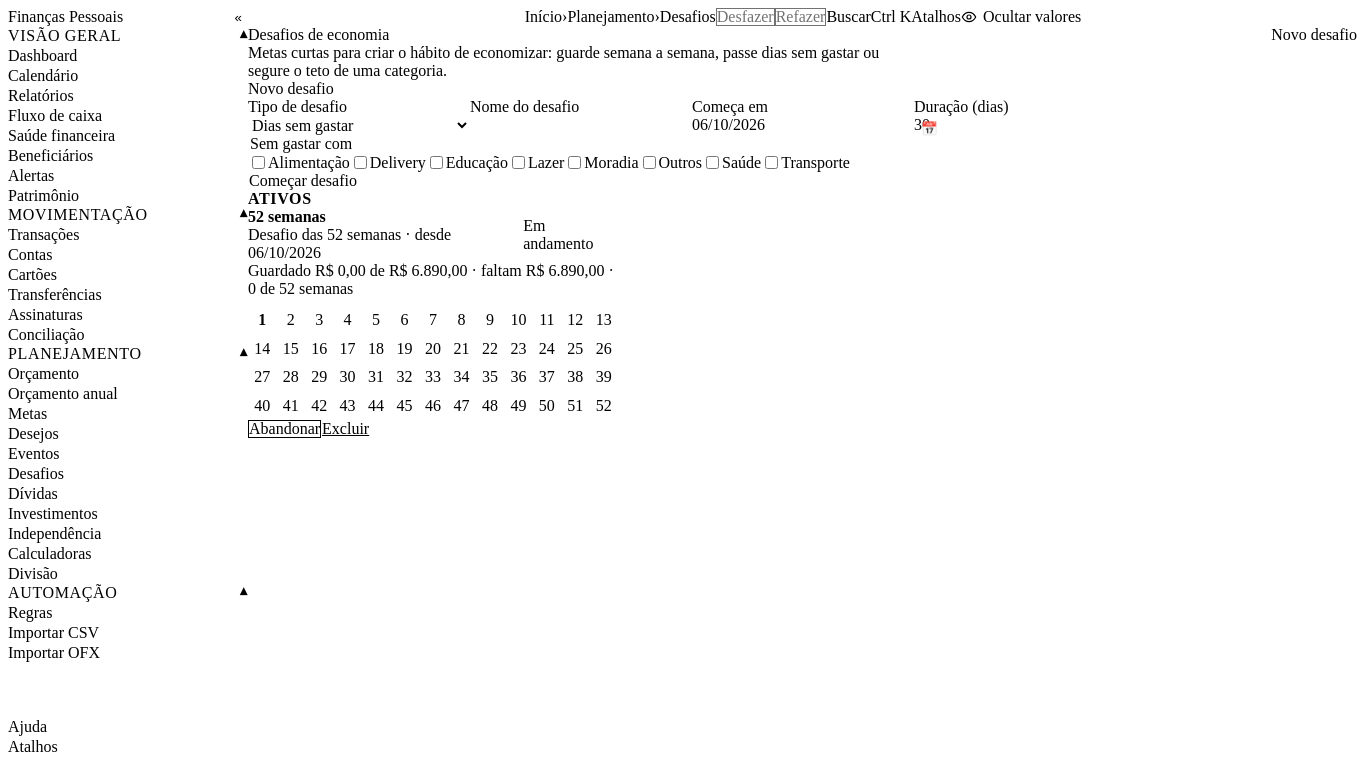
desafios: tela › critérios 3 e 8: marca semana pela tela e abandona com confirmação
Click the checkbox labelled "1": (262, 320) [258,311,266,328]
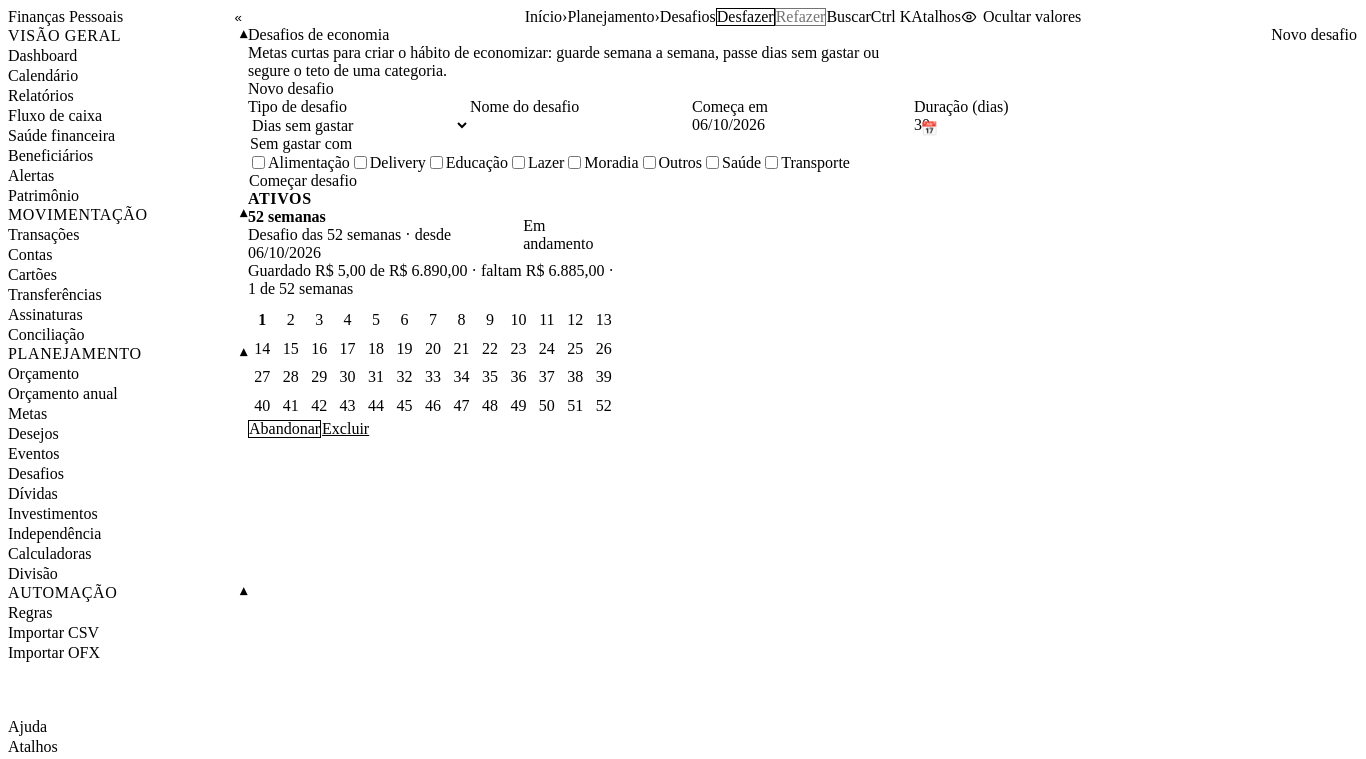
Click the button with aria-label "Abandonar 52 semanas": (285, 429) [248,420,321,438]
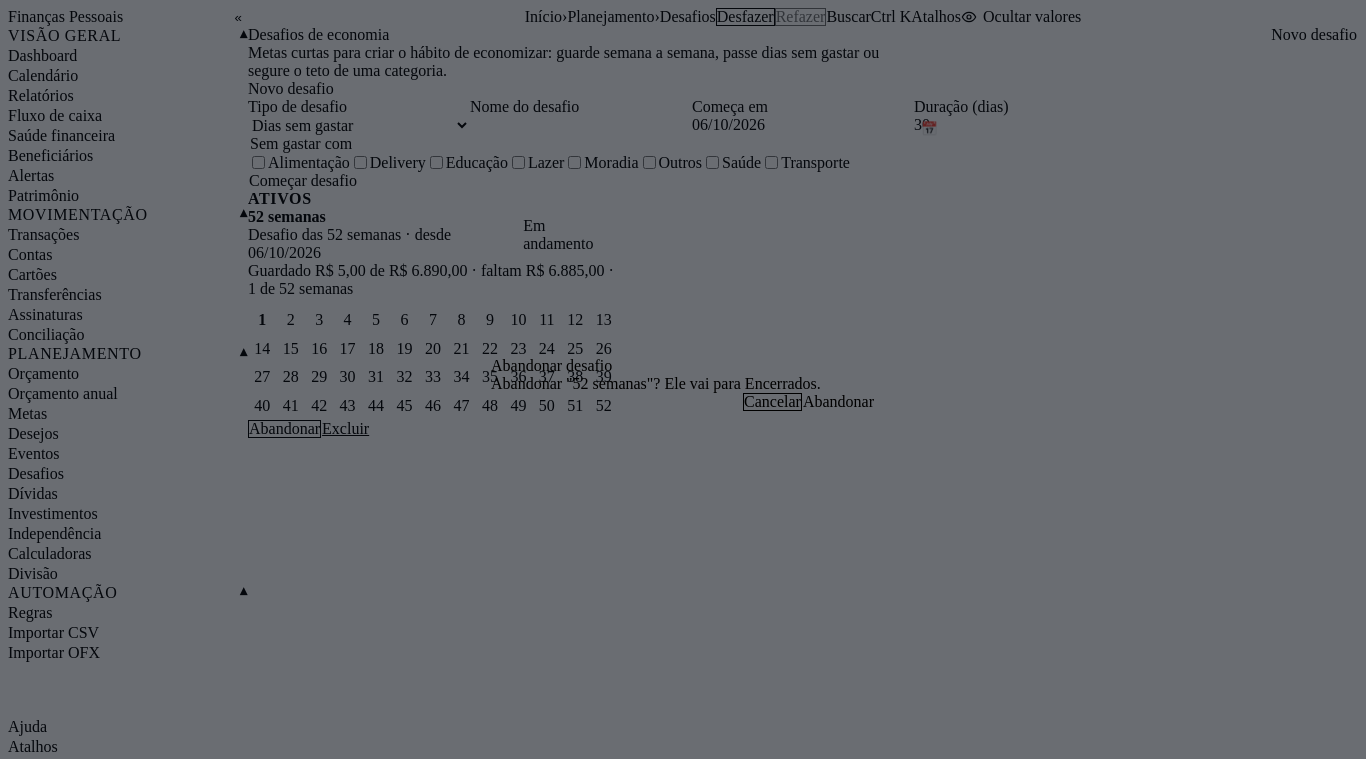
Click the button "Abandonar": (838, 402) [802,393,875,411]
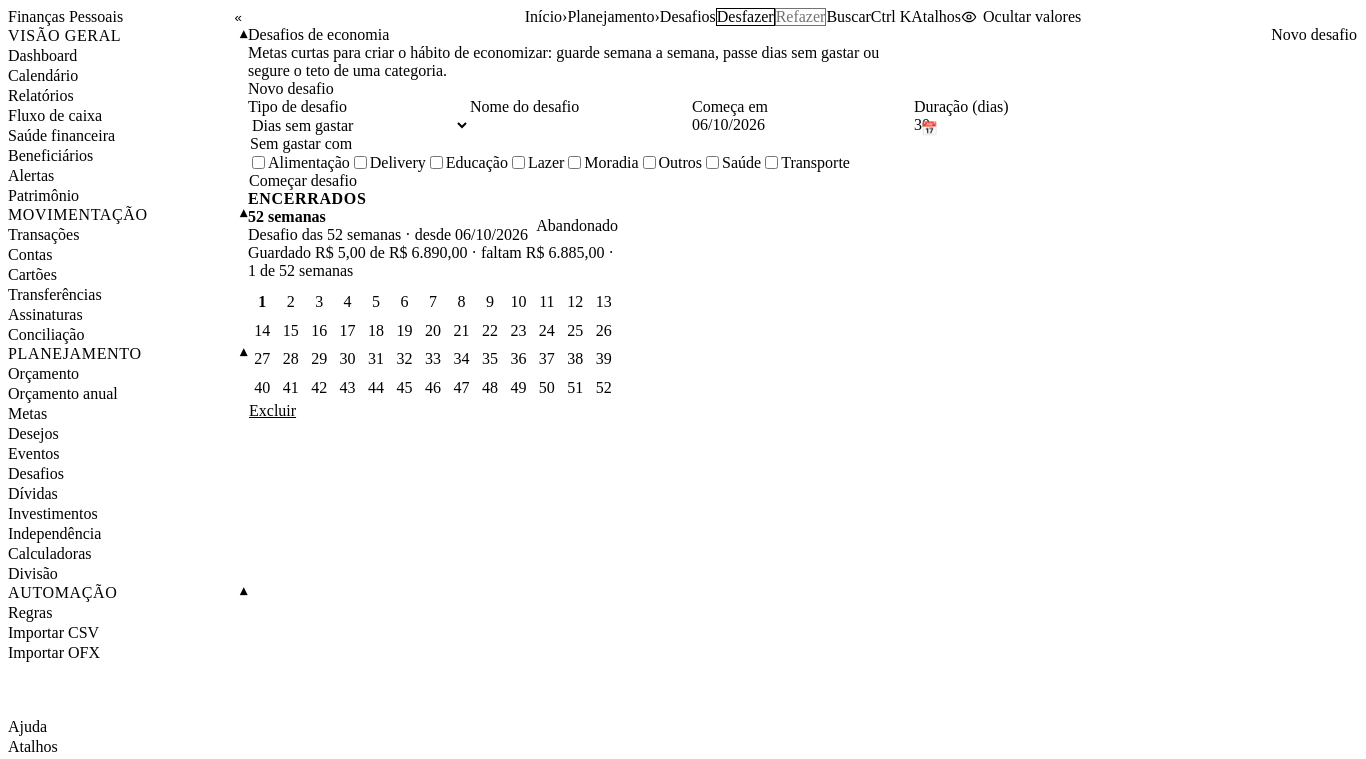
Expected: the text "Abandonado" is shown, [536,217,618,234]
